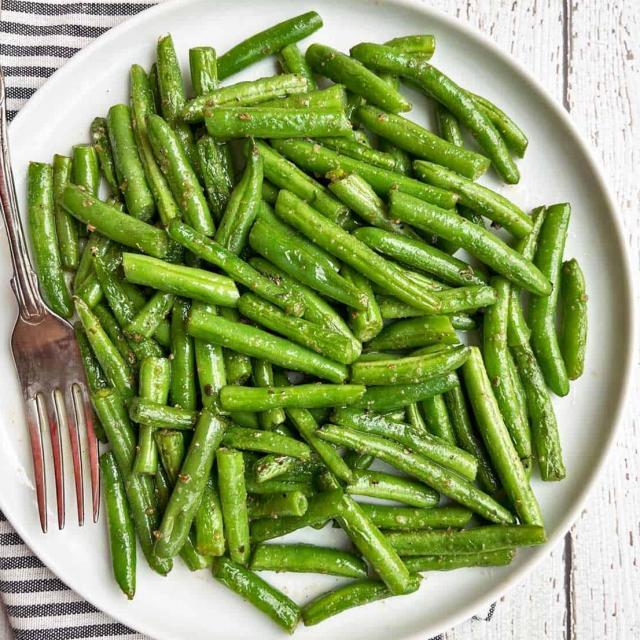Beans: (27, 7, 604, 624)
